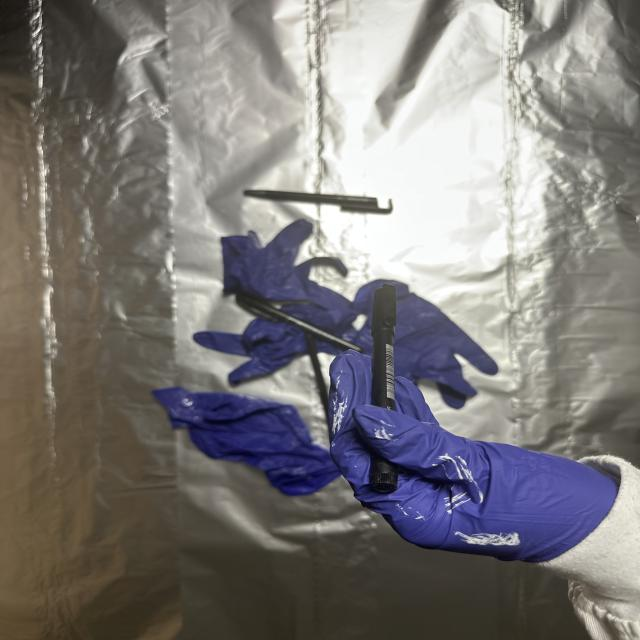gloves_contaminated: (329, 351, 618, 562)
